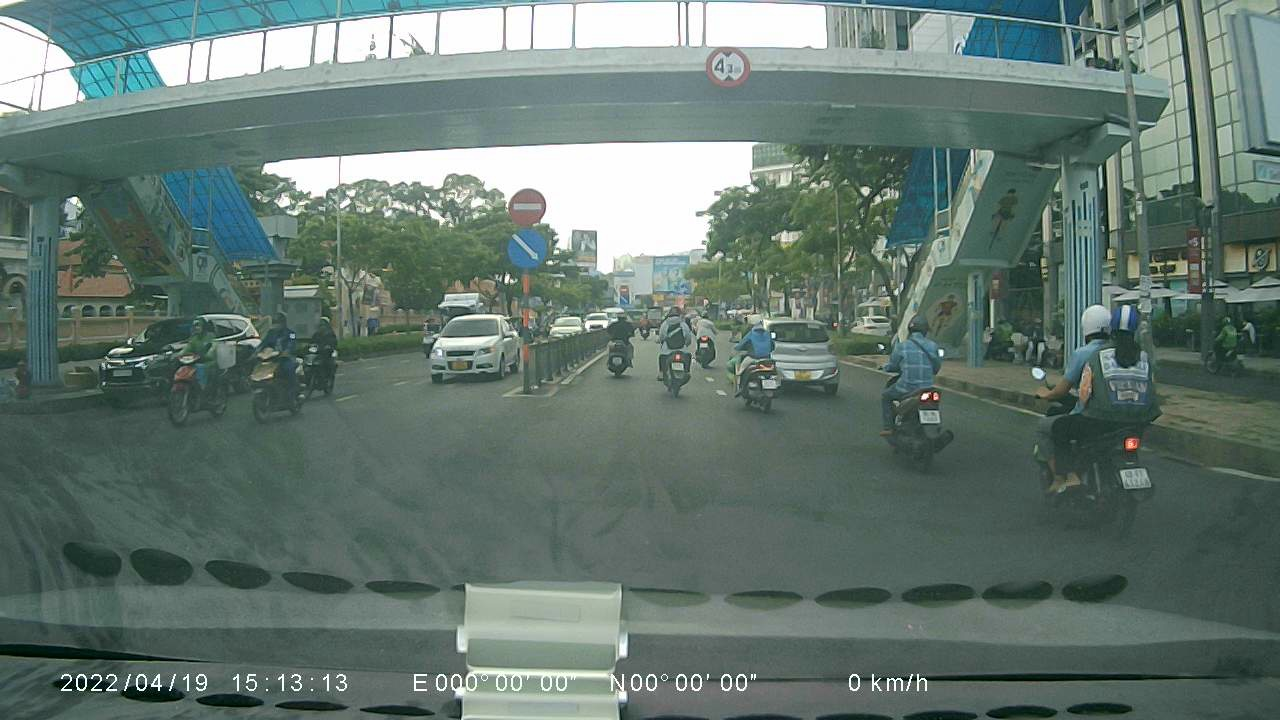Cam di nguoc chieu: (506, 184, 546, 224)
Huong di phai re phai: (506, 227, 547, 267)
